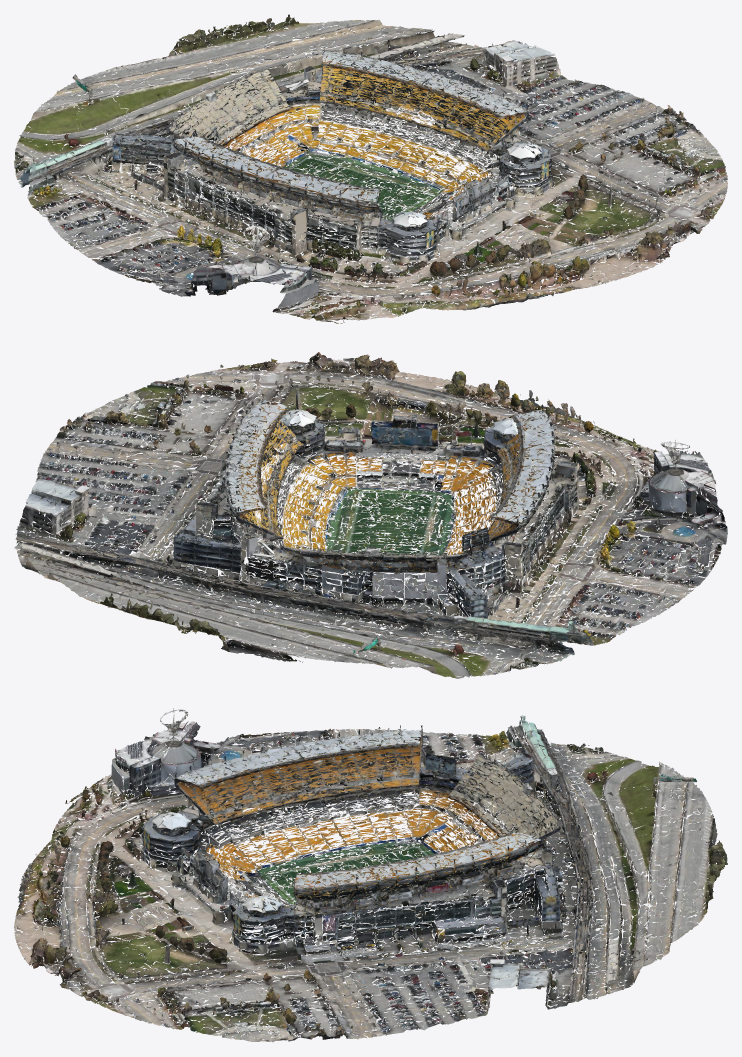
Rendered from gridiron.glb.
The picture shows the model from 3 angles, top to bottom: view 1: azimuth 30°, elevation 25°; view 2: azimuth 150°, elevation 25°; view 3: azimuth 270°, elevation 25°; orthographic projection. The views are drawn at different scales.
Visible parts, largest first — view 1: Model_material0_0; view 2: Model_material0_0; view 3: Model_material0_0.
Part boxes in pixels (x1,y1,x2,y2): Model_material0_0: (14, 14, 727, 323); Model_material0_0: (14, 352, 727, 678); Model_material0_0: (14, 708, 727, 1042).
Size of the model in its own units: 501 by 59.9 by 483.
Materials: 1 (1 with a texture image).
